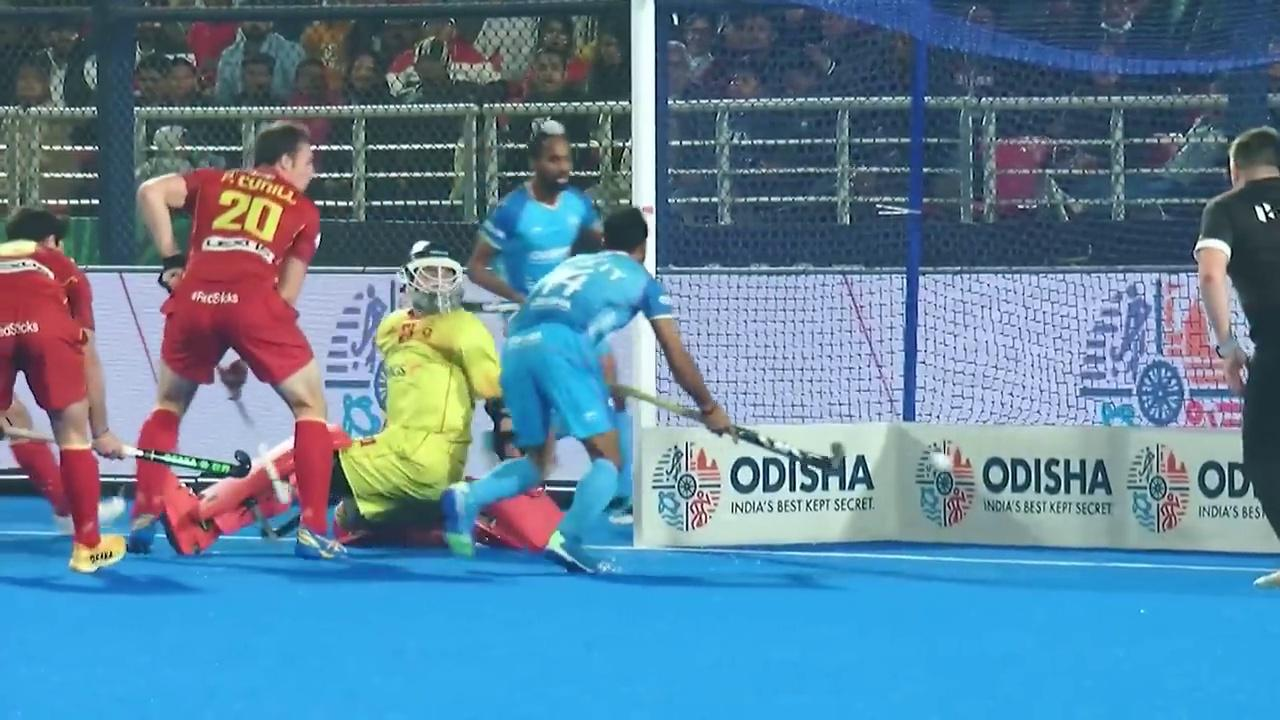ball: (929, 448, 955, 480)
